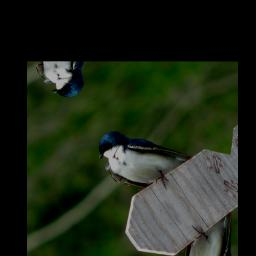Swallow: (87, 98, 201, 213)
